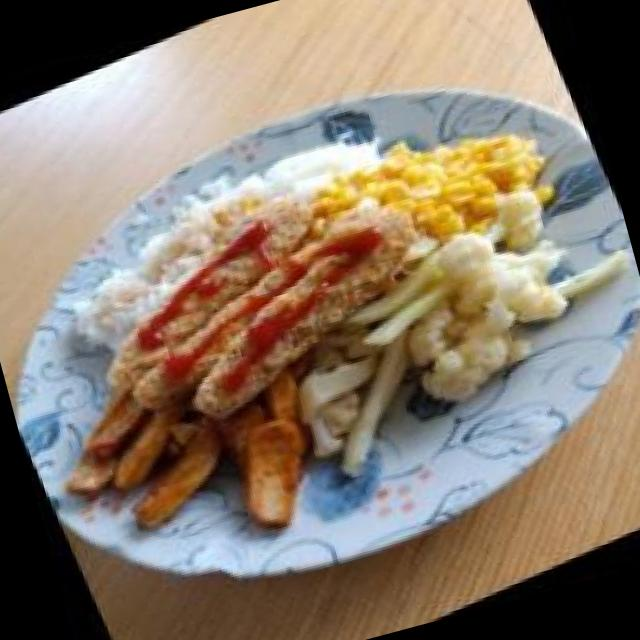rice: (32, 107, 434, 360)
